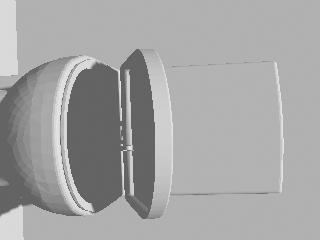lid_1: (120, 49, 172, 218)
